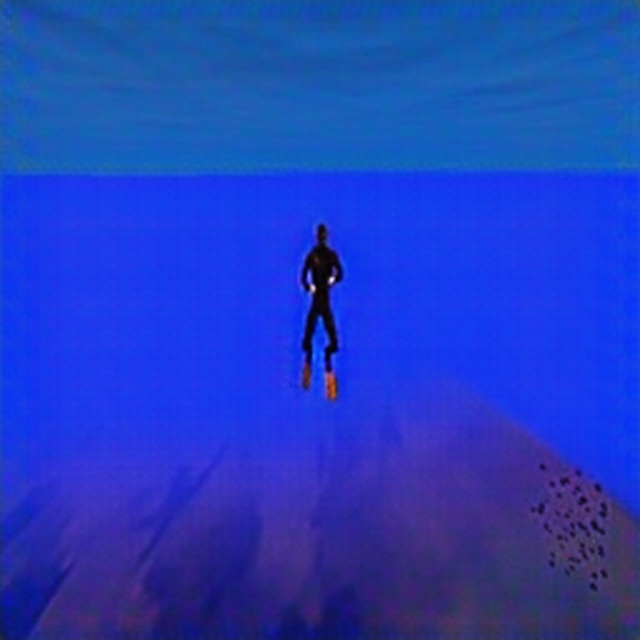diver: (297, 220, 345, 400)
